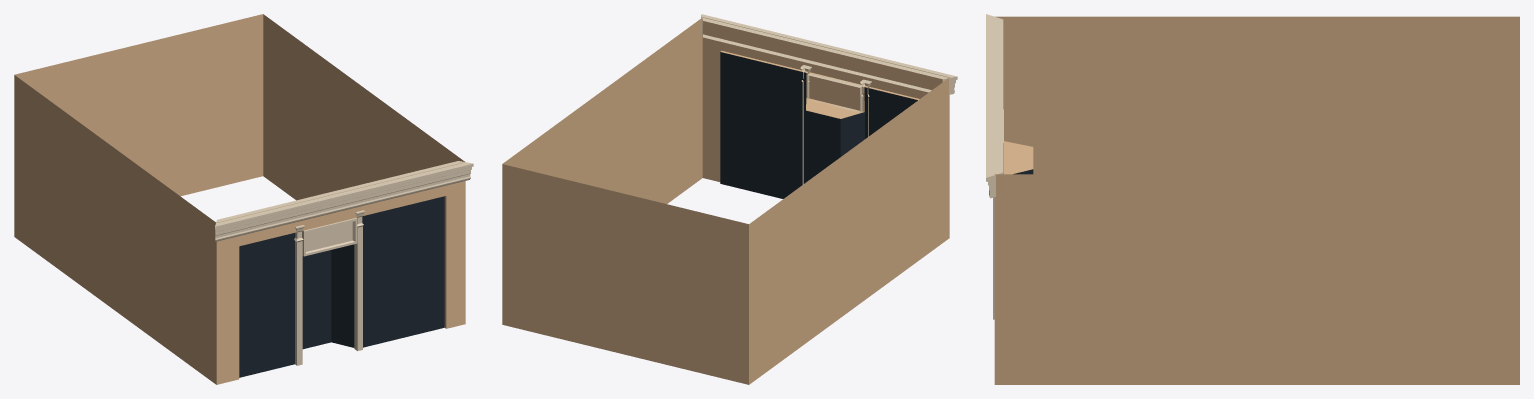
3 renders of one model, left to right at view 1: azimuth 30°, elevation 25°; view 2: azimuth 150°, elevation 25°; view 3: azimuth 270°, elevation 25°, orthographic. The views are drawn at different scales.
Visible parts, largest first — view 1: B1_GF_00; view 2: B1_GF_00; view 3: B1_GF_00.
Part boxes in pixels (x1=…): B1_GF_00: x1=14, y1=14, x2=473, y2=384; B1_GF_00: x1=502, y1=14, x2=957, y2=384; B1_GF_00: x1=986, y1=14, x2=1519, y2=384.
Size of the model in its own units: 5.9 by 3.53 by 8.12.
